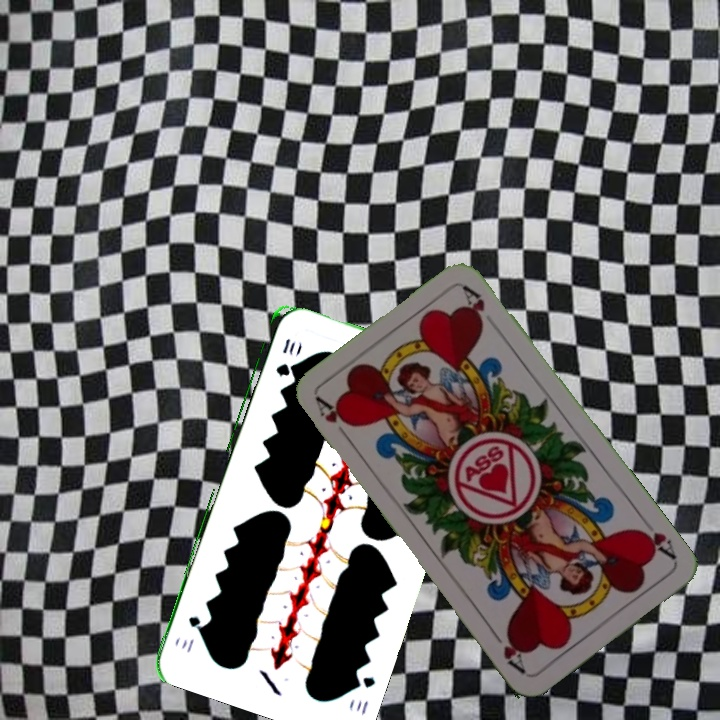G10: (349, 670, 378, 717), (271, 334, 298, 379)
HA: (312, 393, 357, 444), (632, 524, 680, 563)
